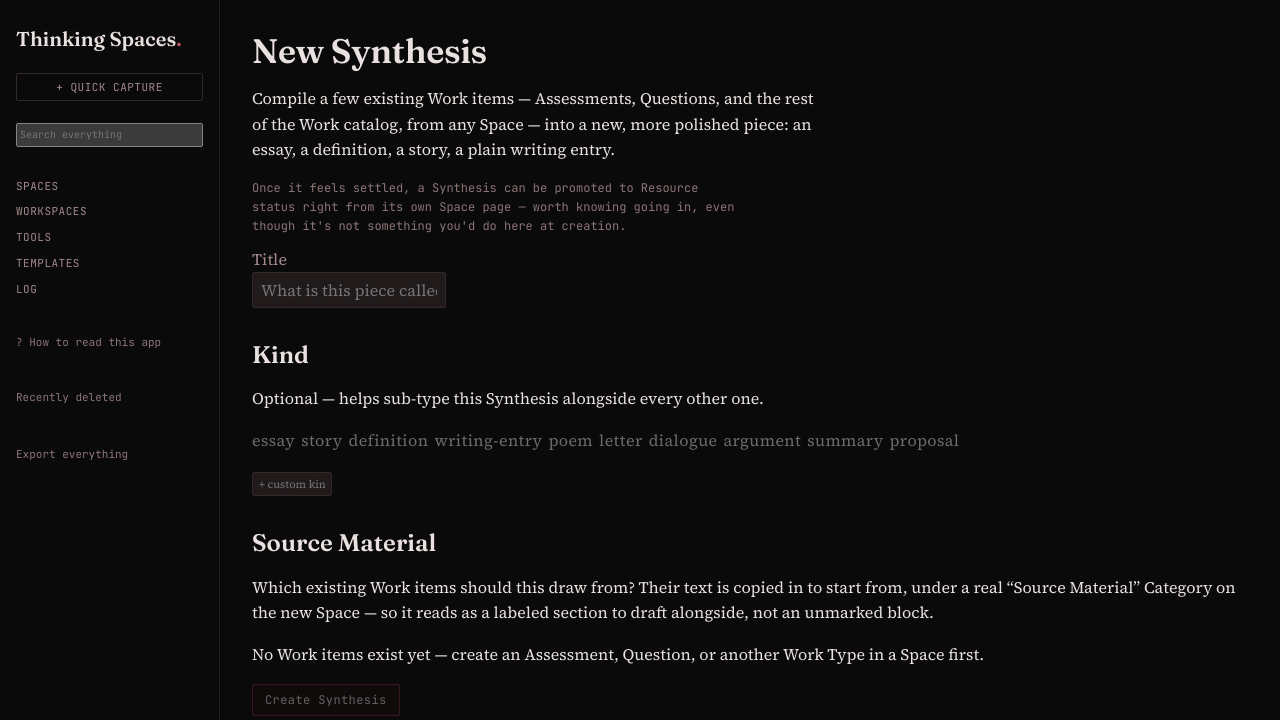
Test: CreateSynthesis: kind › accepts a custom kind typed by hand, beyond the suggestion list
Type "manifesto" into the field with placeholder "+ custom kind" at (292, 484), box [252,472,332,496]
Then press Enter
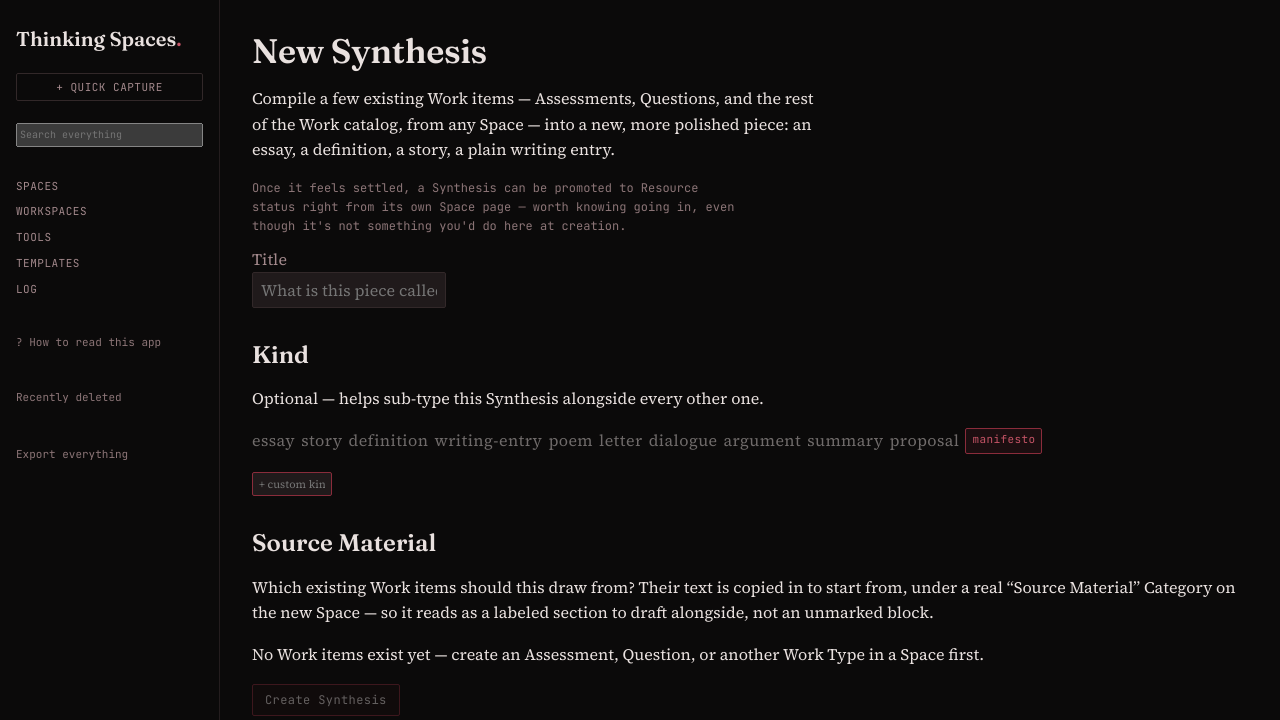
Now the text "manifesto" is shown, box [966,428,1042,454]
// Typing a custom kind replaces a previously chosen suggestion, since Kind is single-valued.
Click the button "essay" at (274, 441), box [252,428,295,454]
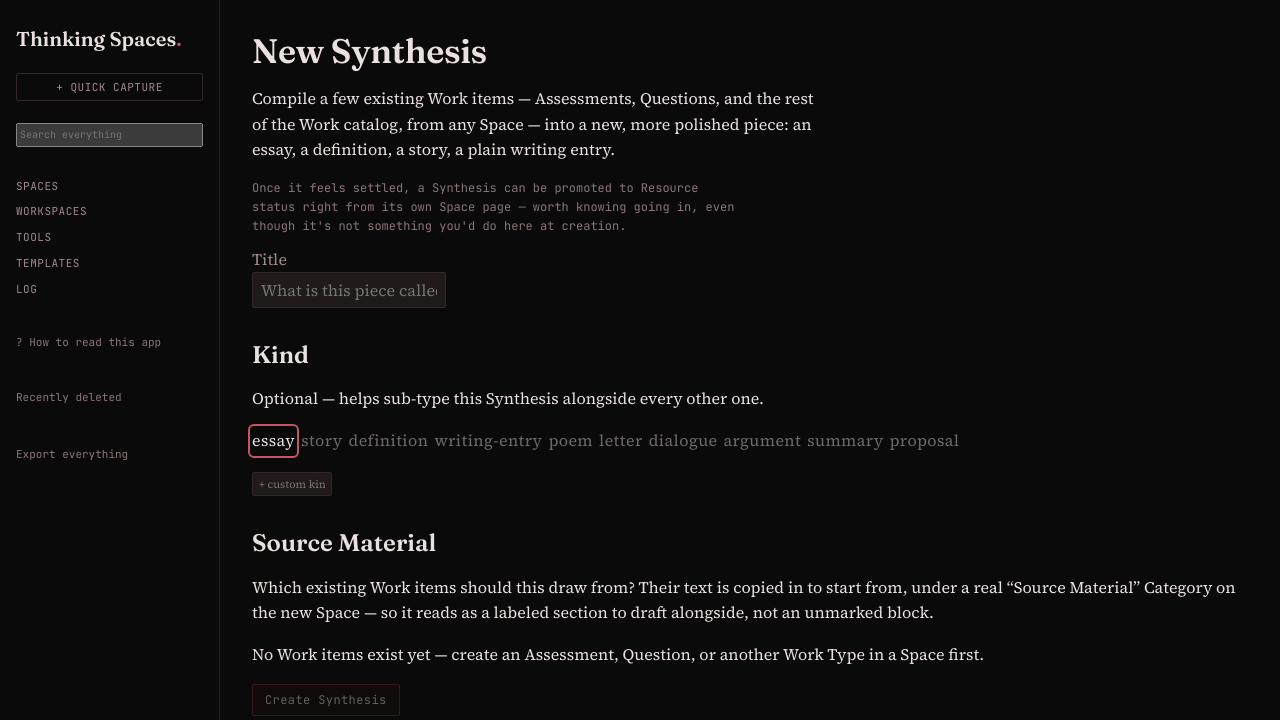
Now the text "manifesto" is gone
